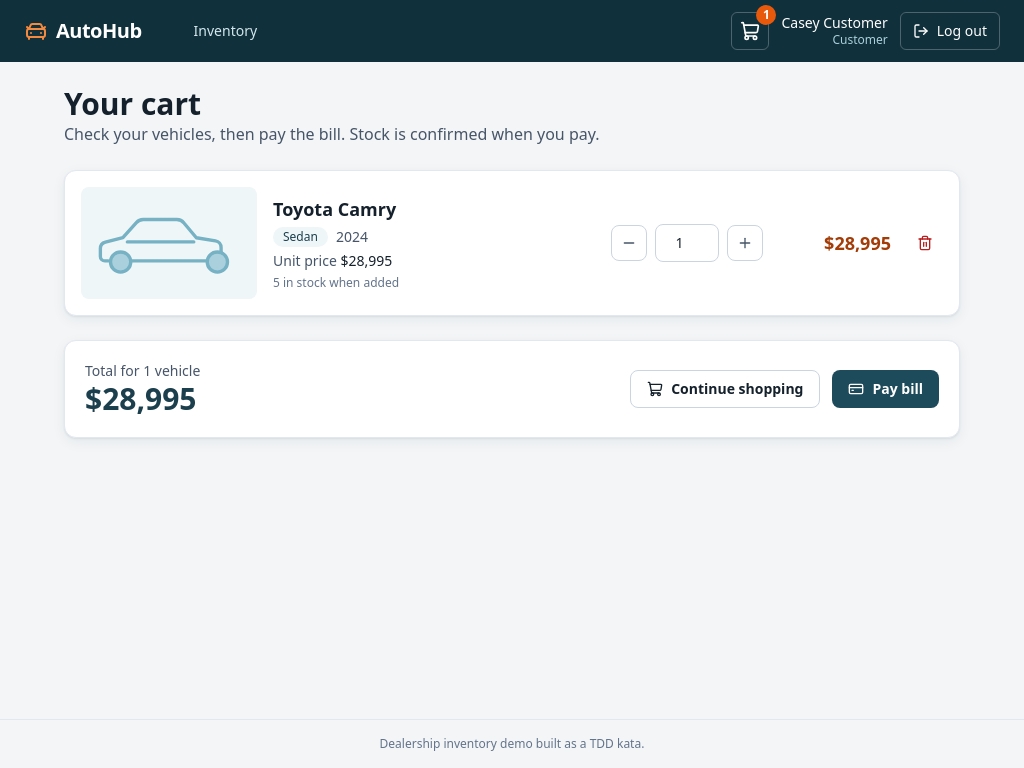
it: Cart page › "Pay bill" goes to the Payment page
The width and height of the screenshot is (1024, 768).
Click the button "Pay bill".
click(886, 389)  # box top-left (832, 370), bottom-right (939, 408)
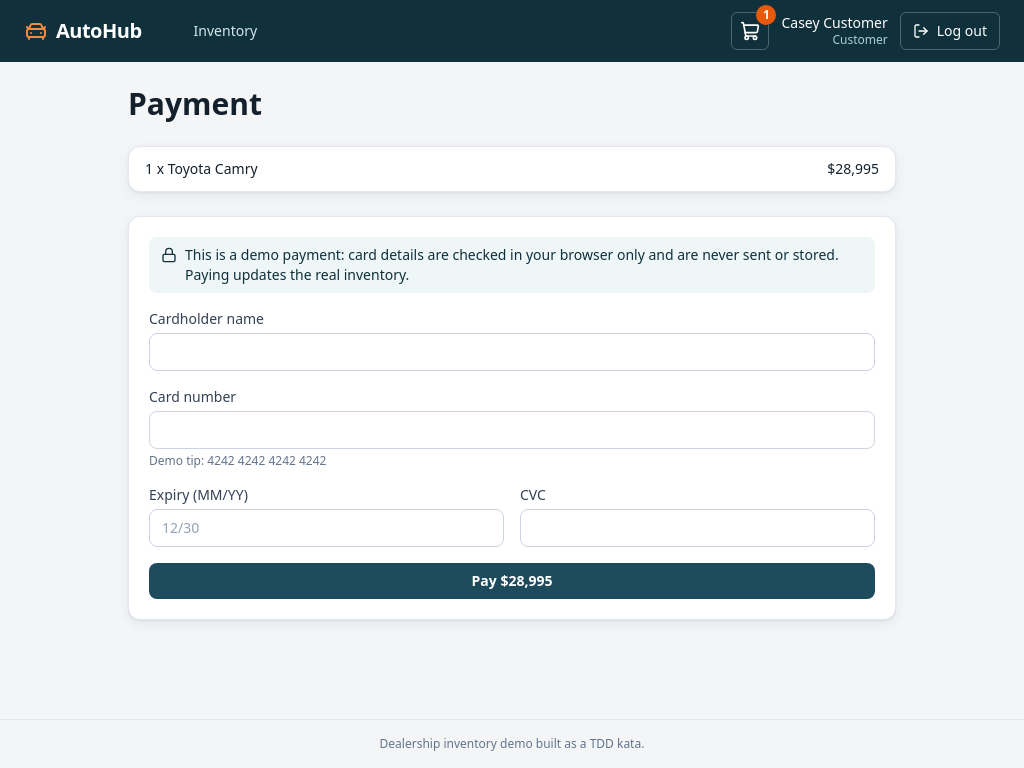
Expected: the heading "Payment" is shown, top-left (128, 83), bottom-right (262, 124)
